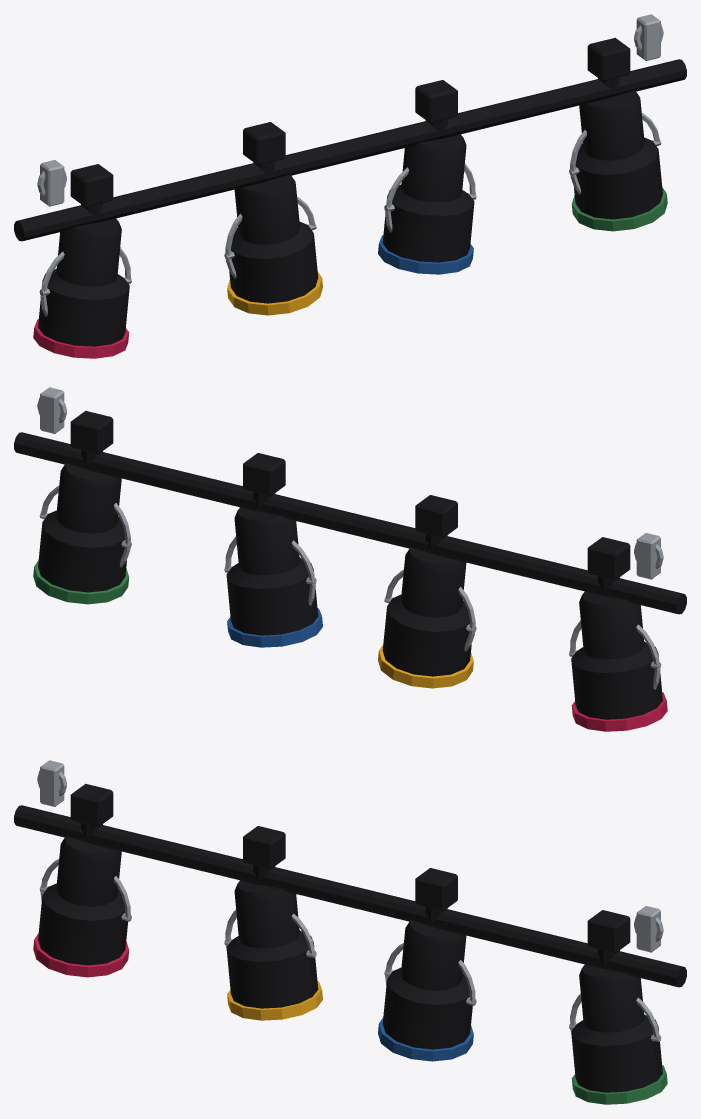
File: LightingBar.obj
The picture shows the model from 3 angles, top to bottom: view 1: azimuth 30°, elevation 25°; view 2: azimuth 150°, elevation 25°; view 3: azimuth 330°, elevation 25°; orthographic projection.
Visible parts, largest first — view 1: lighting-bar-with-par-cans_0, lighting-bar-with-par-cans_1, lighting-bar-with-par-cans_3, lighting-bar-with-par-cans_5, lighting-bar-with-par-cans_2, lighting-bar-with-par-cans_4; view 2: lighting-bar-with-par-cans_0, lighting-bar-with-par-cans_1, lighting-bar-with-par-cans_3, lighting-bar-with-par-cans_5, lighting-bar-with-par-cans_2, lighting-bar-with-par-cans_4; view 3: lighting-bar-with-par-cans_0, lighting-bar-with-par-cans_1, lighting-bar-with-par-cans_4, lighting-bar-with-par-cans_2, lighting-bar-with-par-cans_5, lighting-bar-with-par-cans_3.
Part boxes in pixels (bbox=[...]): lighting-bar-with-par-cans_0: bbox=[14, 37, 686, 346]; lighting-bar-with-par-cans_1: bbox=[37, 14, 663, 316]; lighting-bar-with-par-cans_3: bbox=[227, 271, 322, 315]; lighting-bar-with-par-cans_5: bbox=[571, 187, 667, 231]; lighting-bar-with-par-cans_2: bbox=[33, 319, 129, 358]; lighting-bar-with-par-cans_4: bbox=[378, 235, 473, 274]; lighting-bar-with-par-cans_0: bbox=[14, 410, 686, 719]; lighting-bar-with-par-cans_1: bbox=[37, 387, 663, 689]; lighting-bar-with-par-cans_3: bbox=[378, 644, 473, 688]; lighting-bar-with-par-cans_5: bbox=[33, 560, 129, 604]; lighting-bar-with-par-cans_2: bbox=[571, 692, 667, 731]; lighting-bar-with-par-cans_4: bbox=[227, 608, 322, 647]; lighting-bar-with-par-cans_0: bbox=[14, 783, 686, 1092]; lighting-bar-with-par-cans_1: bbox=[37, 760, 663, 1041]; lighting-bar-with-par-cans_4: bbox=[378, 1017, 473, 1061]; lighting-bar-with-par-cans_2: bbox=[33, 933, 129, 977]; lighting-bar-with-par-cans_5: bbox=[571, 1065, 667, 1104]; lighting-bar-with-par-cans_3: bbox=[227, 981, 322, 1020].
Size of the model in its own units: 2 by 0.541 by 0.2437.
